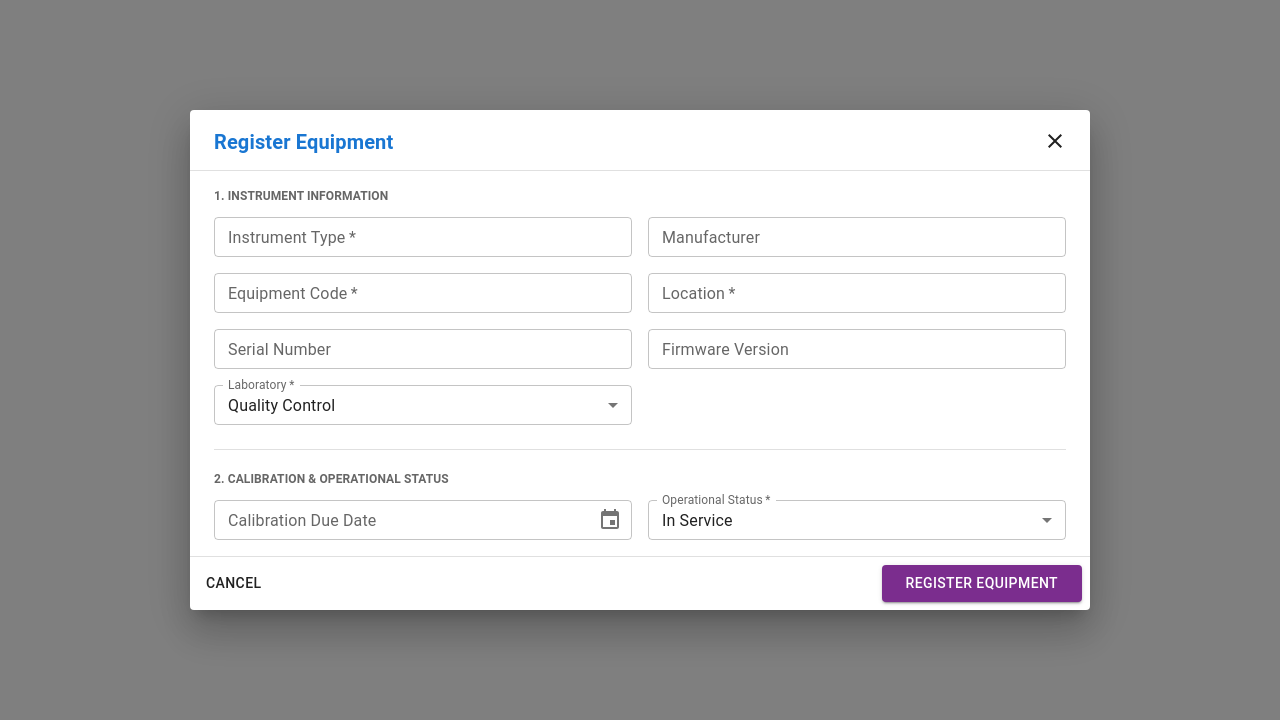
RegisterEquipmentDialog › displays the server error message when creating equipment with a duplicate serial number
The image size is (1280, 720).
Type "Autoclave" into the field labelled "Instrument Type *".
click(423, 237); type("Autoclave")  # box left=214, top=217, right=632, bottom=257
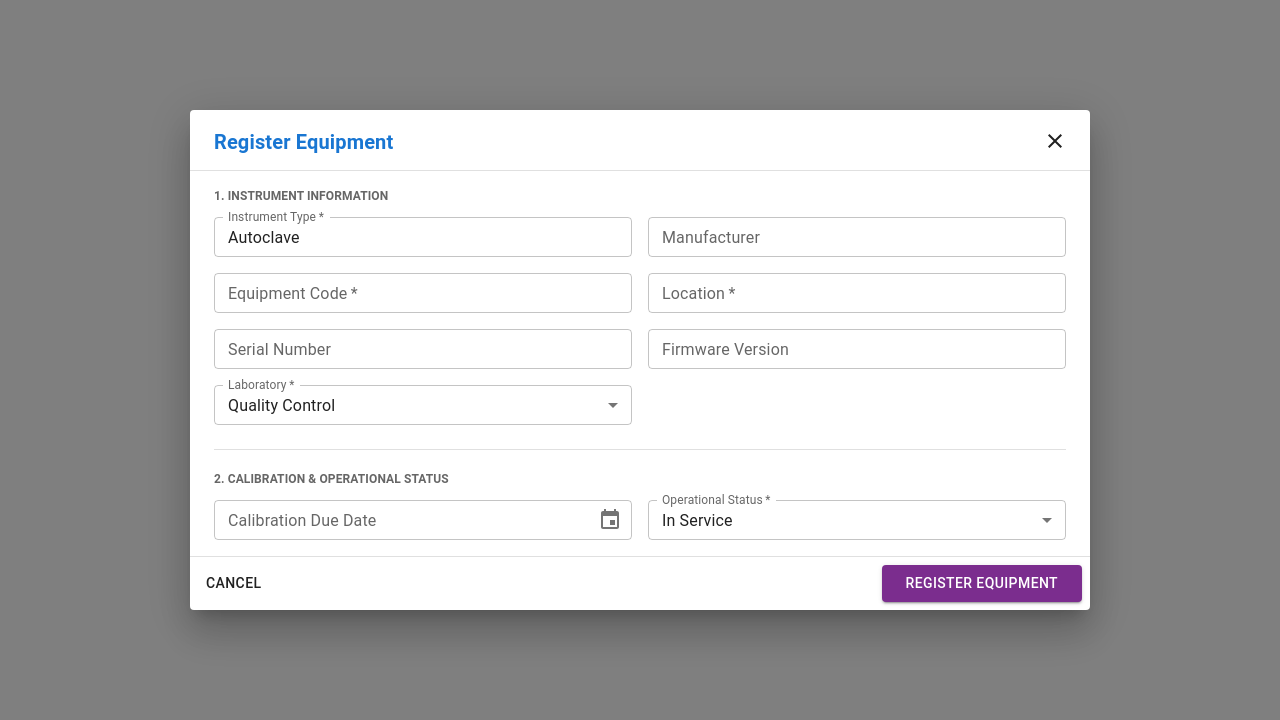
Type "EQ-AC-01" into the field labelled "Equipment Code *".
click(423, 293); type("EQ-AC-01")  # box left=214, top=273, right=632, bottom=313
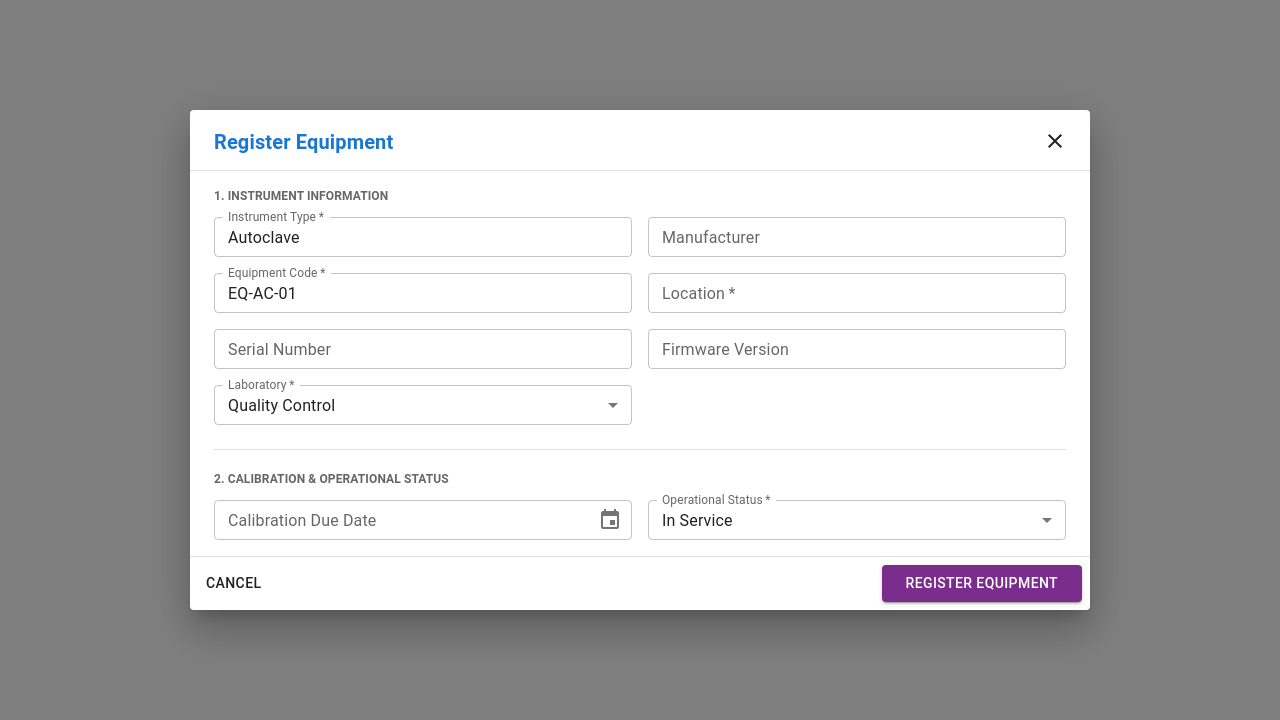
Type "Prep Room" into the field labelled "Location *".
click(857, 293); type("Prep Room")  # box left=648, top=273, right=1066, bottom=313
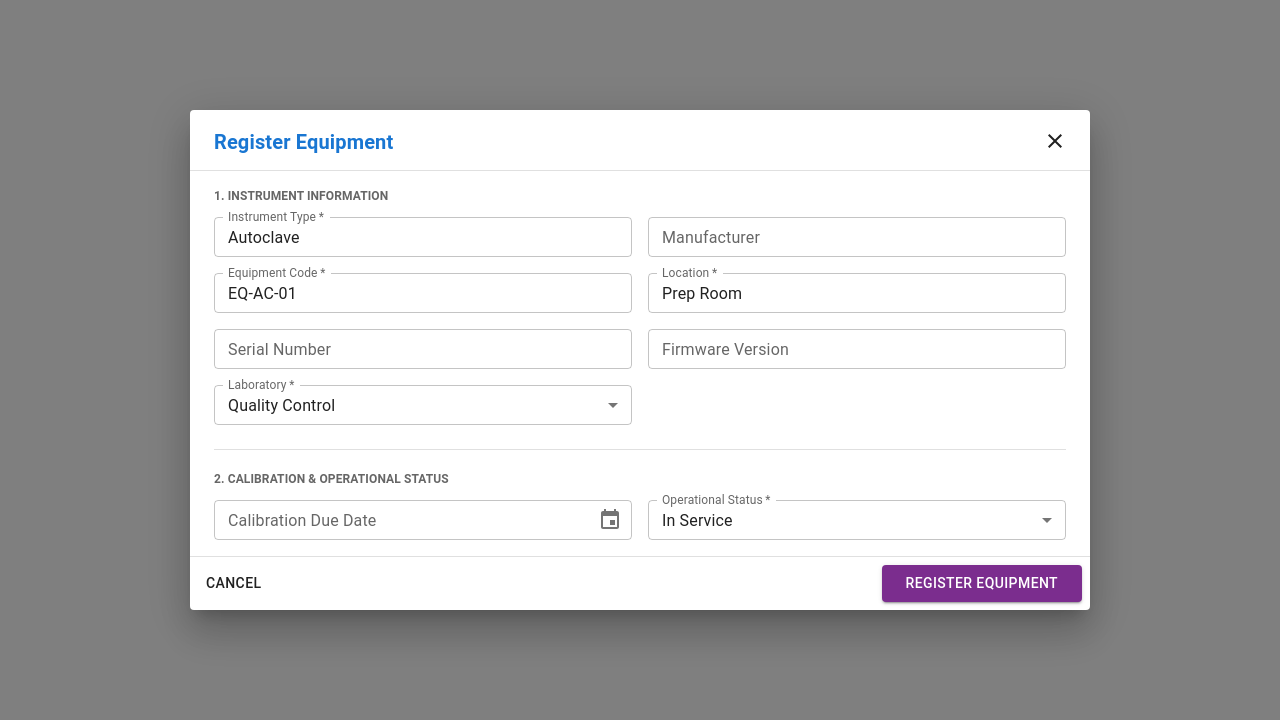
Type "SN-DUPLICATE-999" into the field labelled "Serial Number".
click(423, 349); type("SN-DUPLICATE-999")  # box left=214, top=329, right=632, bottom=369
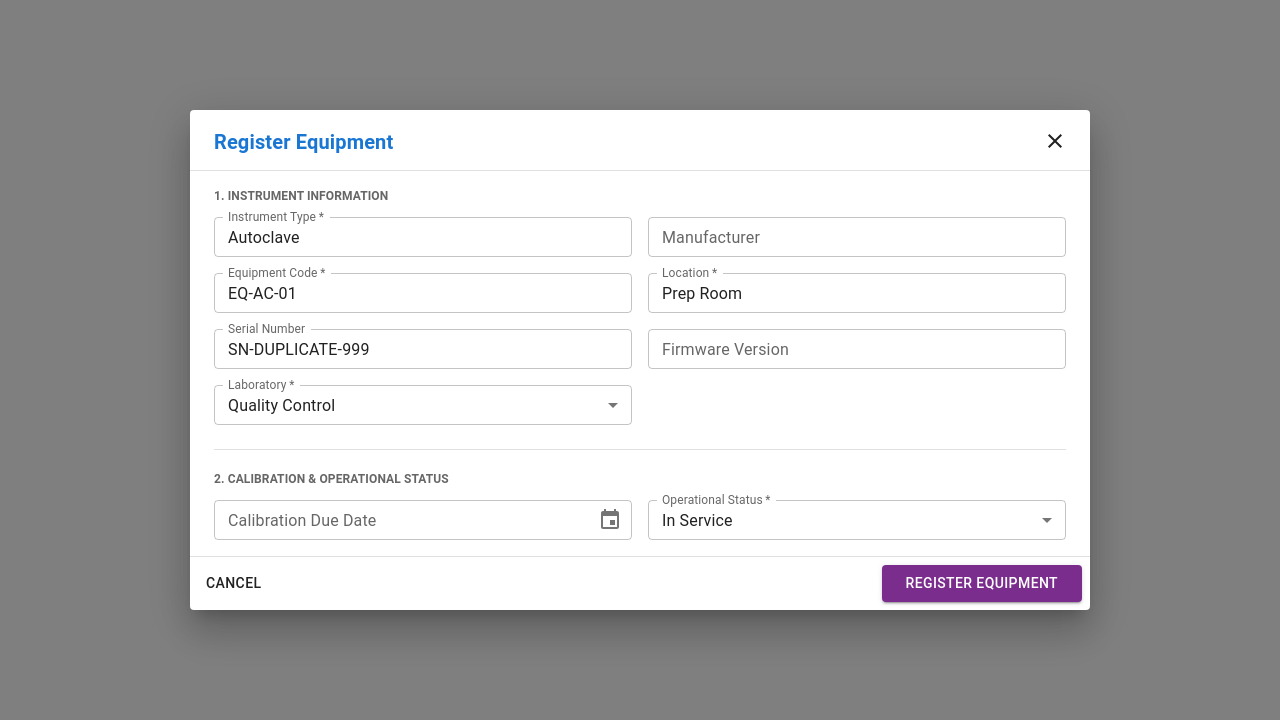
Click the button "Register Equipment".
click(982, 584)  # box left=882, top=565, right=1082, bottom=602
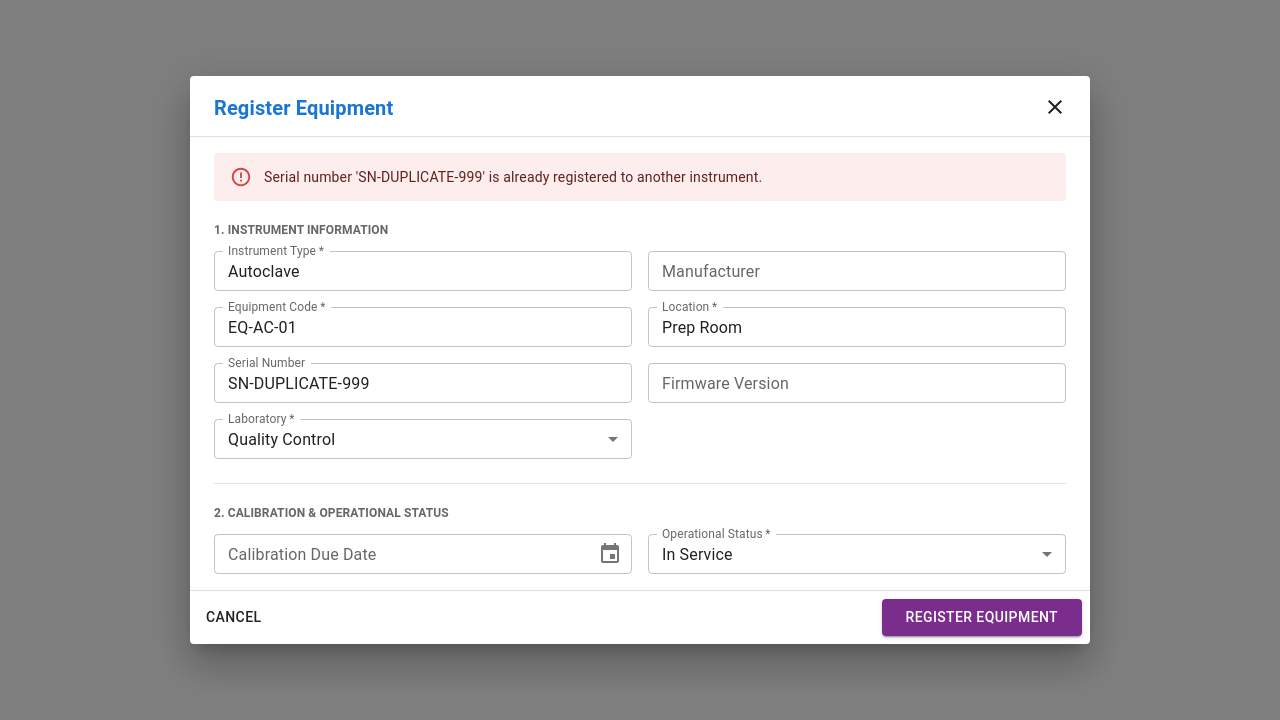
expect the text "Serial number 'SN-DUPLICATE-999' is already registered to another instrument." is shown: met, box left=264, top=169, right=762, bottom=185
